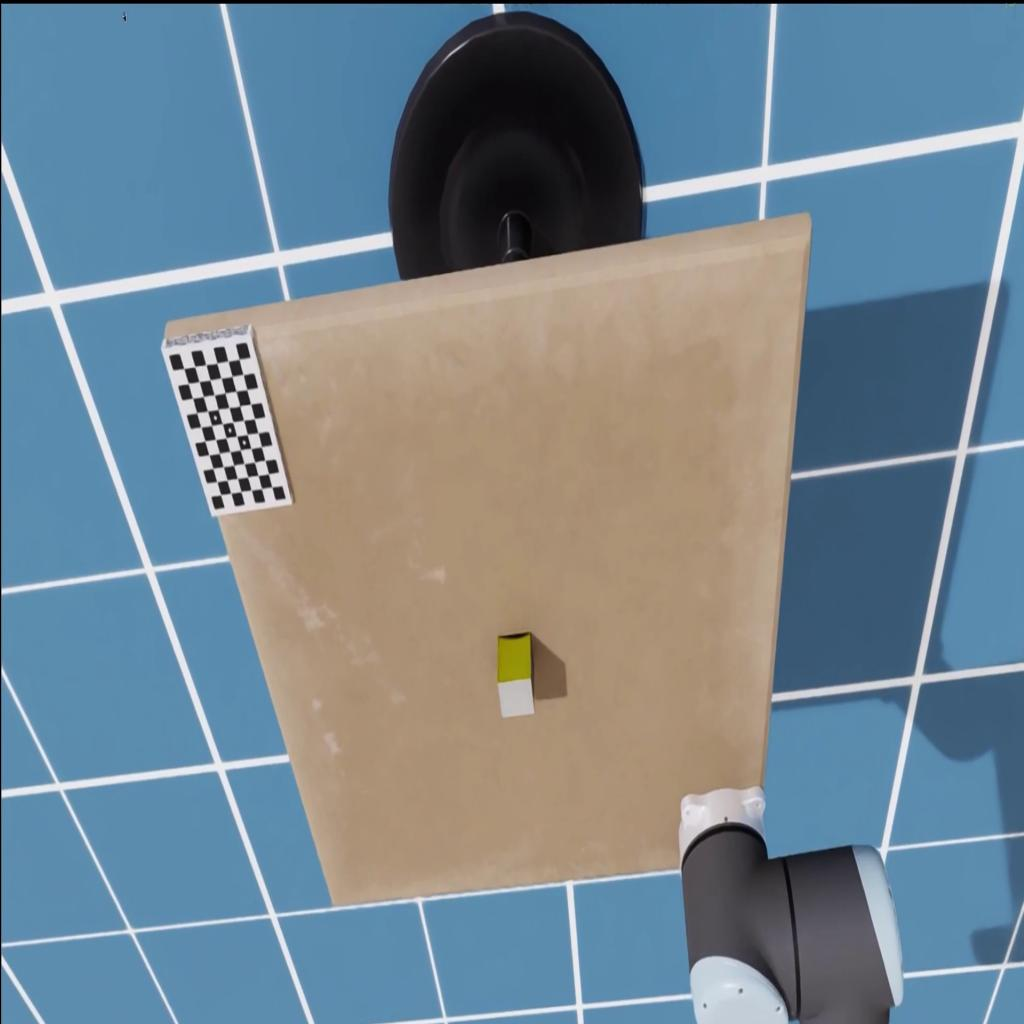Cube: (496, 632, 534, 718)
QR: (160, 322, 294, 518)
Robot: (676, 786, 904, 1024)
Table: (162, 208, 811, 908)
